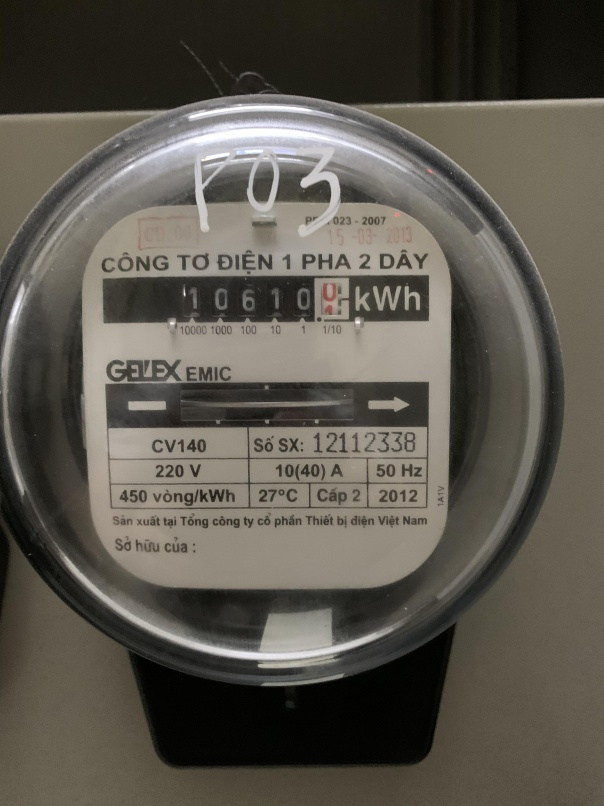counter: (101, 273, 429, 321)
electricity_meter: (11, 94, 563, 679)
